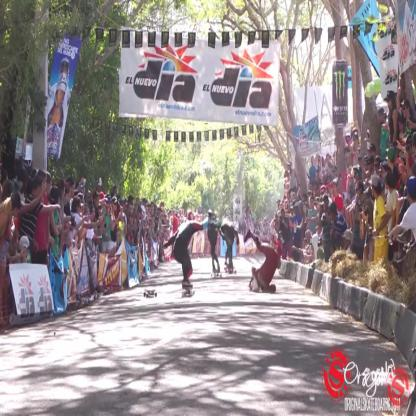Fall_Down: (240, 225, 281, 297)
